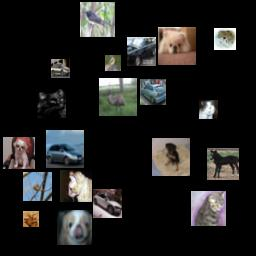automobile: (46, 130, 84, 168), (93, 189, 122, 218), (127, 37, 156, 66), (140, 79, 166, 105), (51, 59, 70, 78)
bird: (99, 78, 137, 116), (80, 2, 115, 37), (23, 172, 52, 201), (105, 55, 121, 71)
cat: (191, 191, 226, 226), (60, 170, 92, 202), (37, 89, 66, 118), (199, 100, 218, 119)
deer: (23, 211, 39, 227)
dog: (152, 138, 190, 176), (158, 27, 196, 65), (57, 210, 92, 245), (3, 137, 35, 169)
frog: (214, 28, 236, 50)
